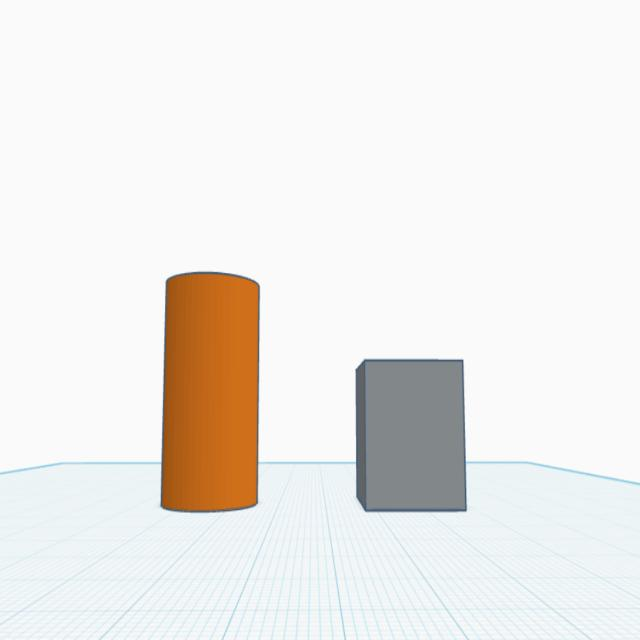cube: (350, 353, 469, 519)
